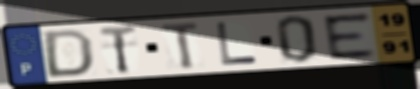0: (274, 13, 321, 65)
D: (43, 27, 95, 79)
E: (320, 11, 379, 61)
L: (214, 21, 260, 67)
T: (159, 20, 203, 71), (97, 23, 139, 76)
